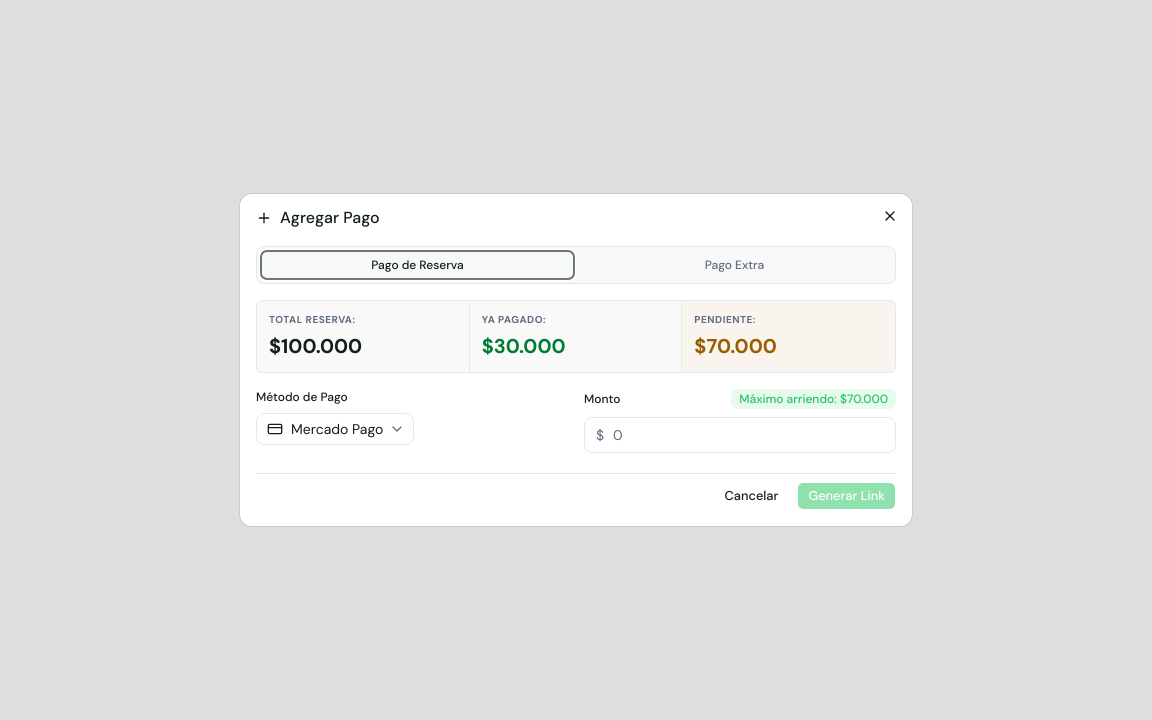
Test: AddPaymentDialog - paymentType selector › switching back to RESERVATION restores max badge and hides extra fields
Click the radio button "Pago Extra" at (734, 265), box [578,251,891,279]
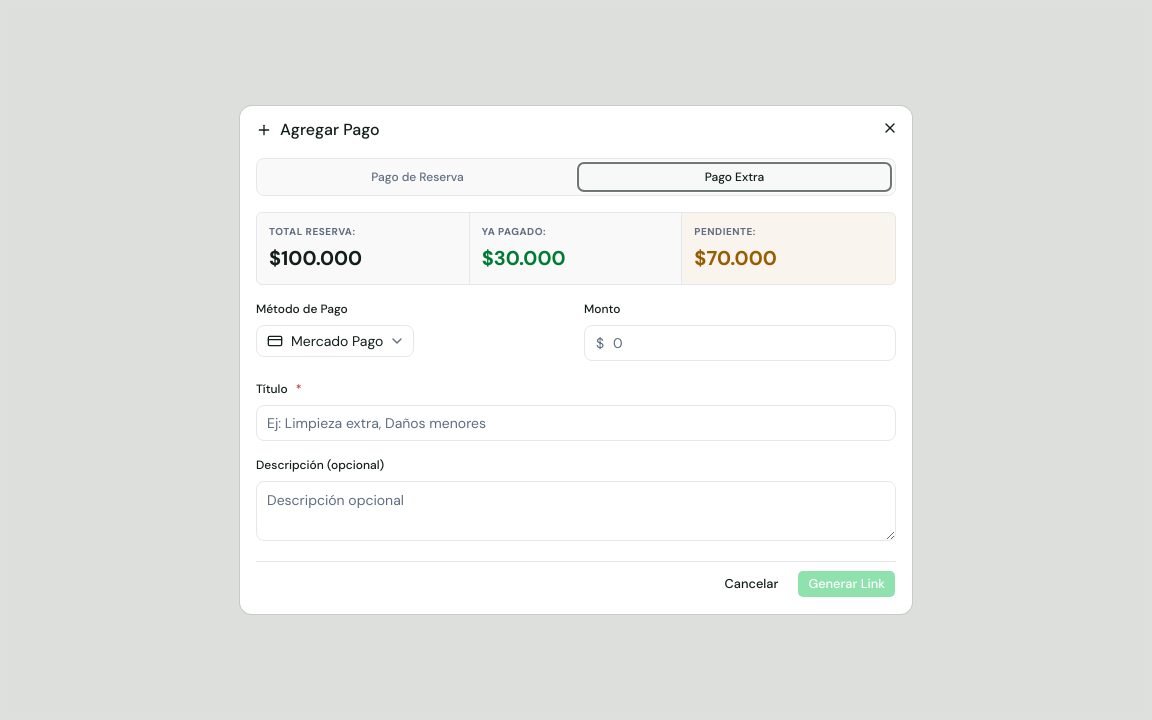
Click the radio button "Pago de Reserva" at (418, 177), box [261,163,574,191]
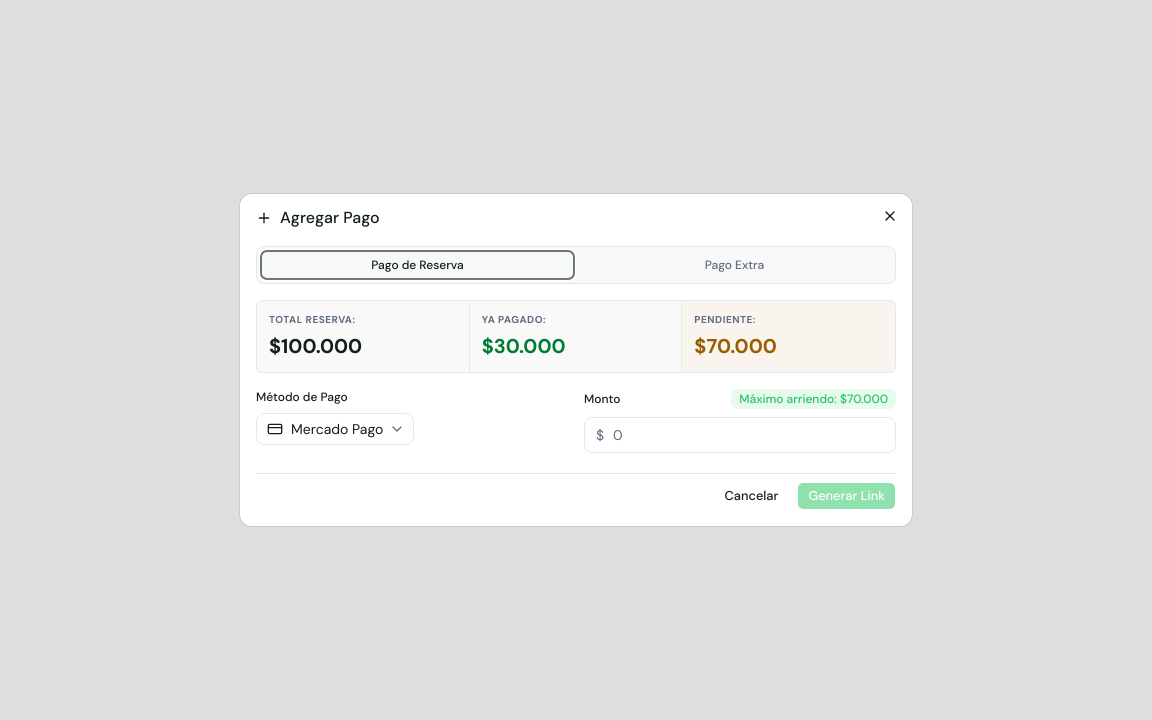
Check: the button "Máximo arriendo: $70.000" is shown, box [731,389,896,409]
Check: the text "Título" is gone
Check: the text "Descripción (opcional)" is gone
